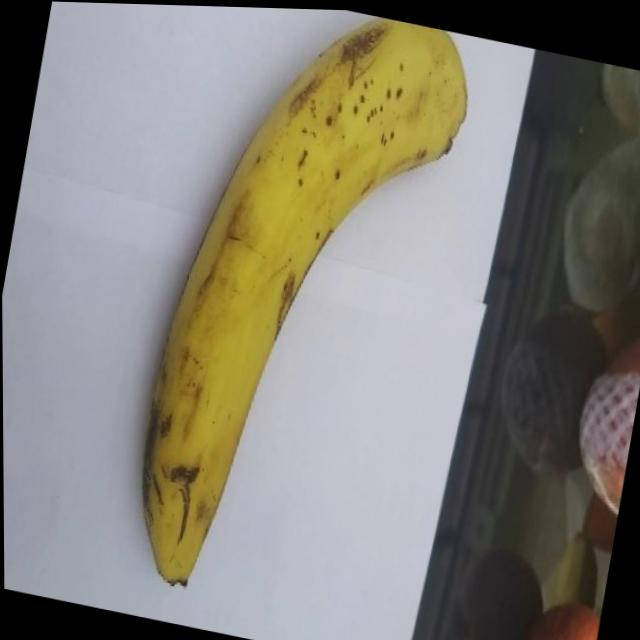Banana: (117, 3, 484, 628)
